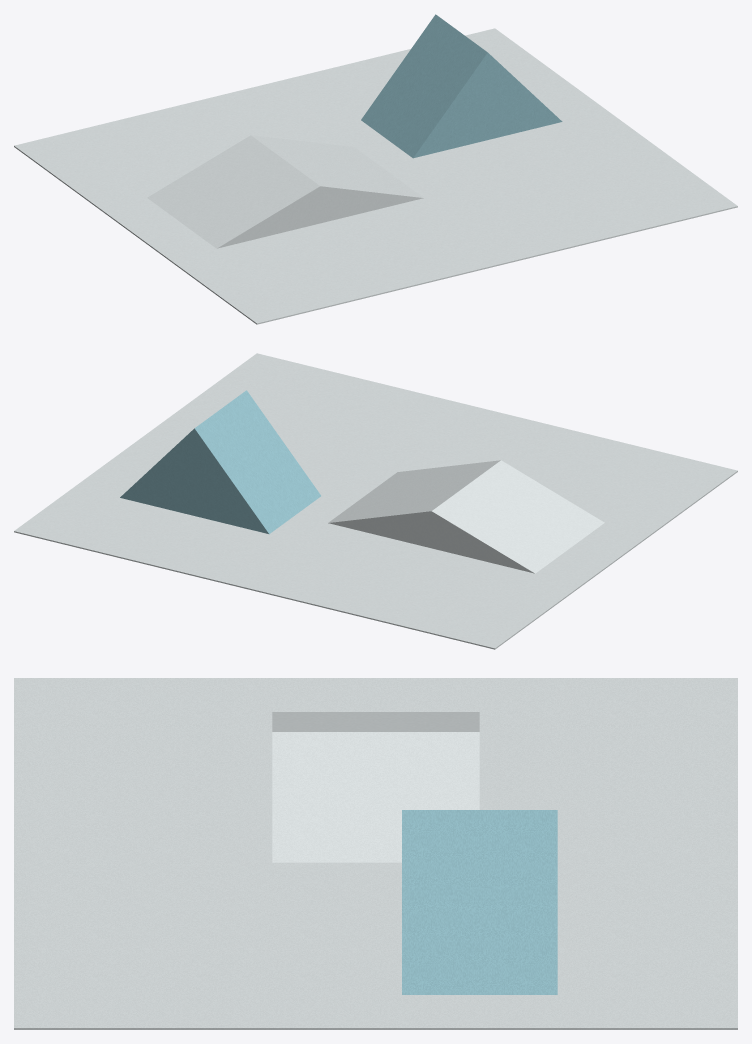
File: plot-polar.glb
3 views of the same model, one above another, from view 1: azimuth 30°, elevation 25°; view 2: azimuth 150°, elevation 25°; view 3: azimuth 270°, elevation 25° (orthographic). The views are drawn at different scales.
Size of the model in its own units: 15.96 by 2.82 by 13.96.
Materials: 2 (2 with a texture image).
